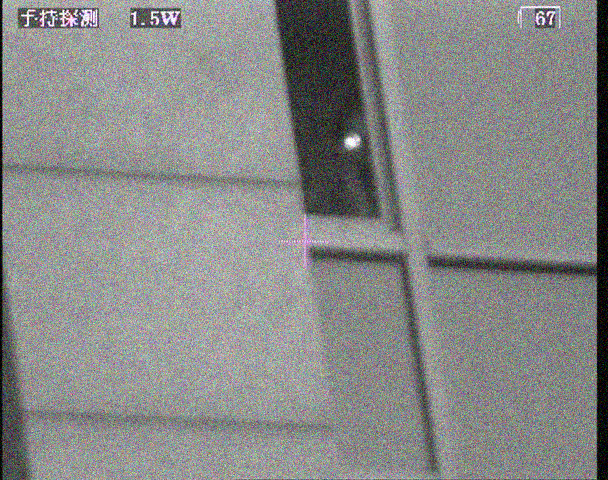my: (343, 132, 362, 150)
